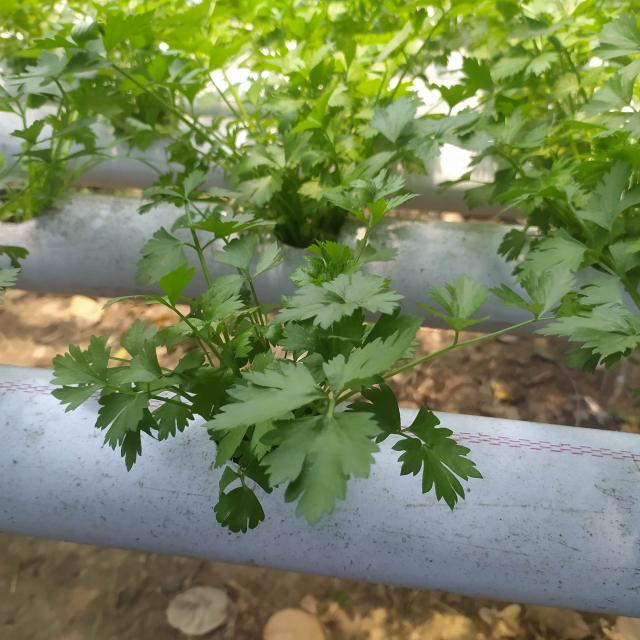Wet Waste: (77, 179, 505, 519)
